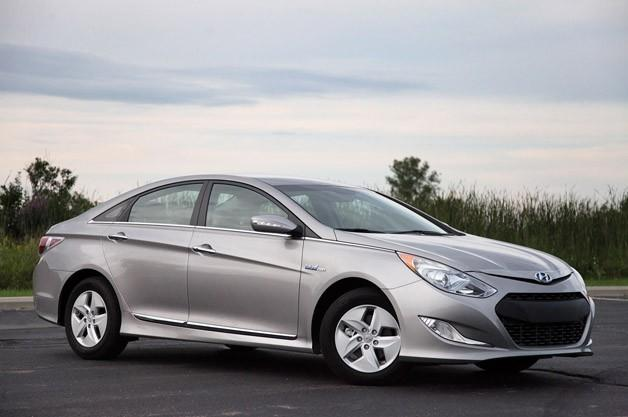Sedan: (31, 172, 596, 385)
